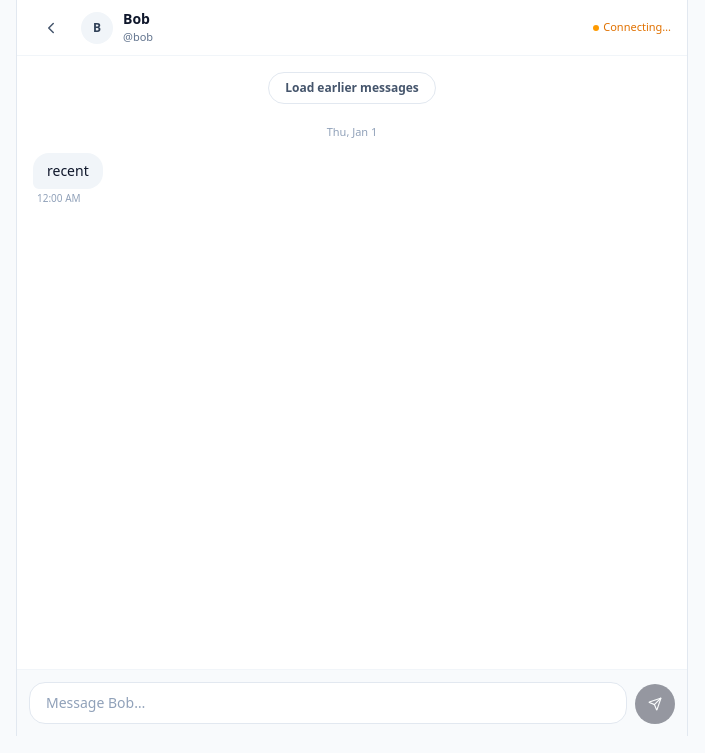
Test: ConversationView › loads earlier messages with the cursor
This screenshot has width=705, height=753.
Click the button "Load earlier messages" at (352,88), box [268, 72, 436, 104]
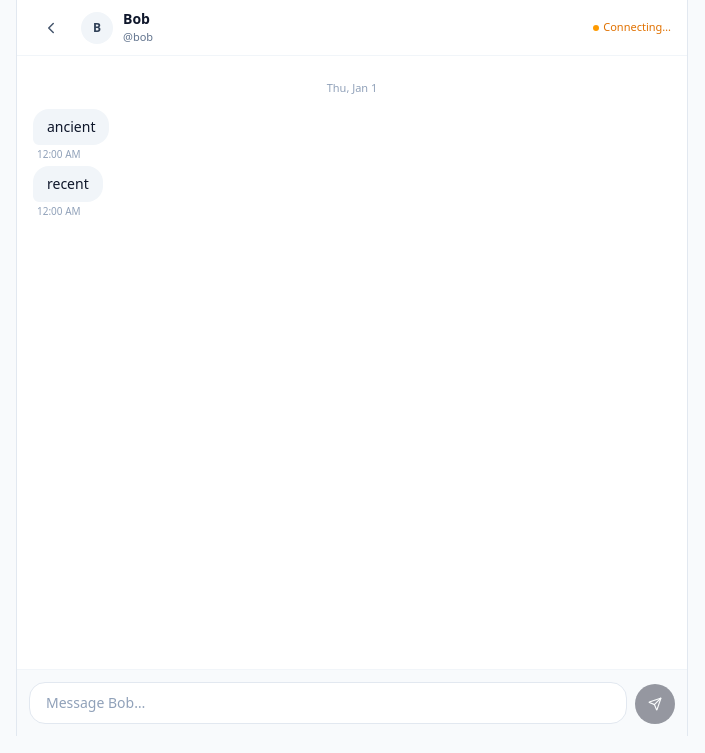
Expected: the text "ancient" is shown, [33, 108, 110, 144]
